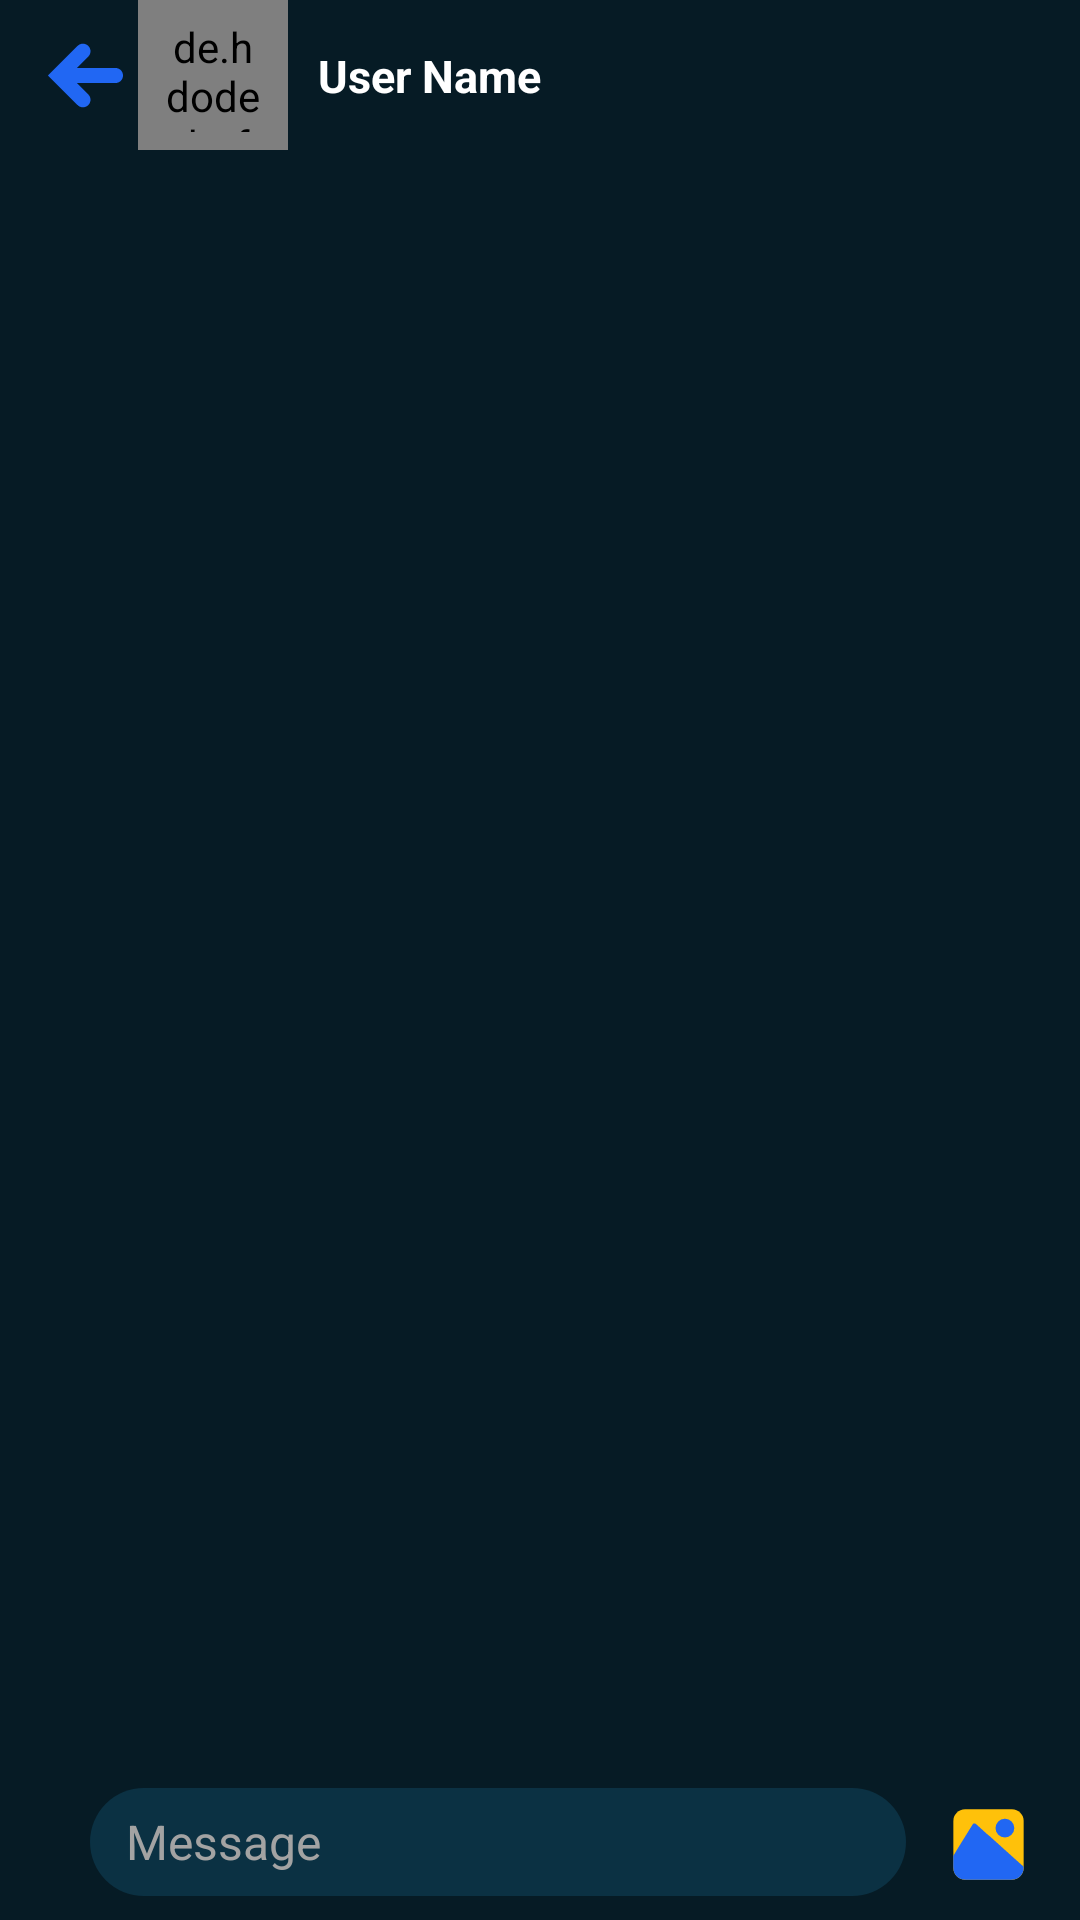

Locate icon controls on the screen. Image size 1080×1920, boxes as (x1, y1, x2, y2).
back: (48, 43, 123, 108)
